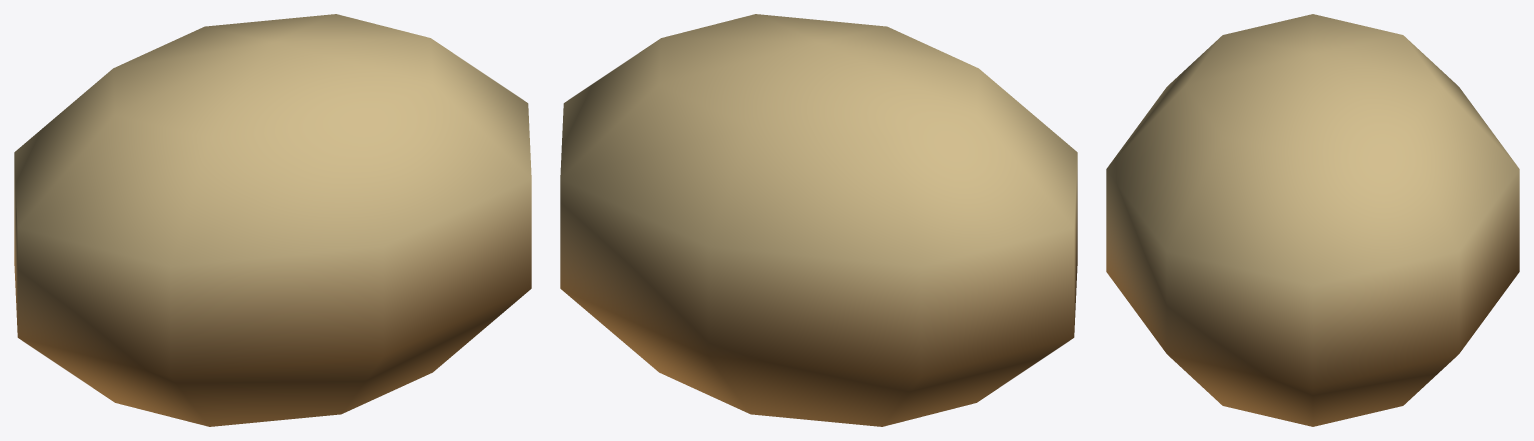
Rendered from Hut_Crumb.fbx.
3 views of the same model, side by side, from view 1: azimuth 30°, elevation 25°; view 2: azimuth 150°, elevation 25°; view 3: azimuth 270°, elevation 25° (orthographic). The views are drawn at different scales.
Visible parts, largest first — view 1: Hut_Crumb; view 2: Hut_Crumb; view 3: Hut_Crumb.
Part boxes in pixels (bbox=[...]): Hut_Crumb: bbox=[14, 14, 531, 426]; Hut_Crumb: bbox=[560, 14, 1077, 426]; Hut_Crumb: bbox=[1106, 14, 1519, 426].
Bounding box in the file's own units: 0.6277 × 0.418 × 0.4708.
